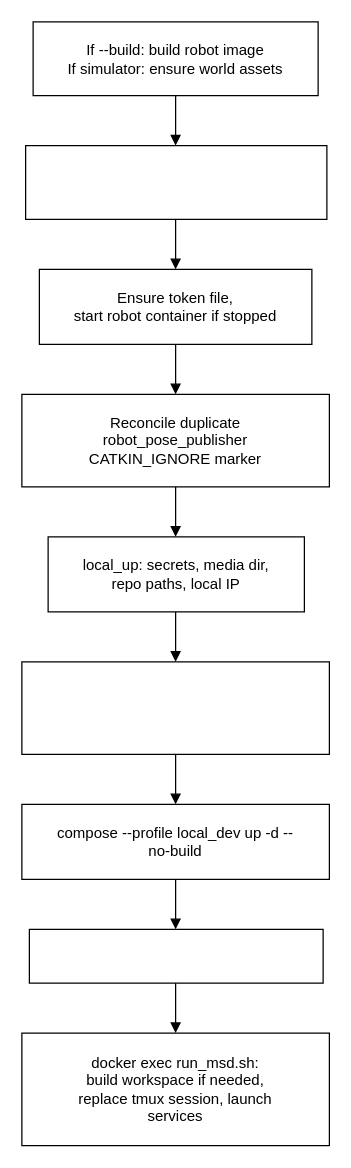
The diagram is 351 pixels wide and 1168 high, and some of its shapes have lost their labels. Here are the shapes that lost their labels. From the top down, the box of each, then its label:
(24, 144, 327, 219): Resolve cloud endpoint, ROS port, cached identity, host fingerprint
(21, 661, 329, 754): Build local images if missing or -- build; else warn if stale
(28, 928, 323, 983): Enable autostart unless opted out
